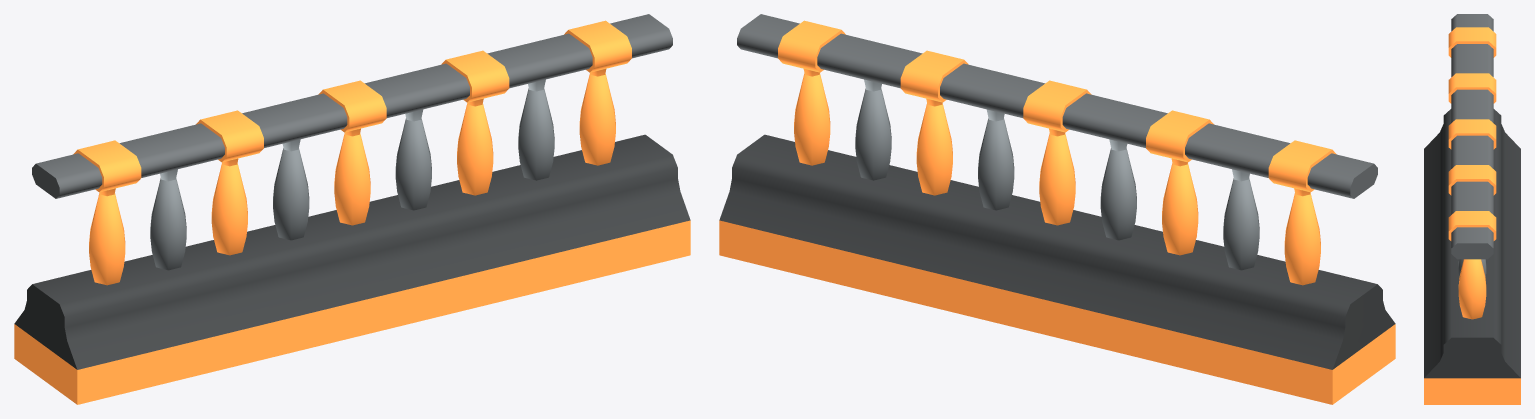
The model's file is fence_003.glb.
The picture shows the model from 3 angles, left to right: view 1: azimuth 30°, elevation 25°; view 2: azimuth 150°, elevation 25°; view 3: azimuth 270°, elevation 25°; orthographic projection. The views are drawn at different scales.
Visible parts, largest first — view 1: fence_003; view 2: fence_003; view 3: fence_003.
Part boxes in pixels (box(x1,y1,x2,y2)): fence_003: box(14, 14, 690, 404); fence_003: box(719, 14, 1395, 404); fence_003: box(1424, 14, 1520, 404).
Bounding box in the file's own units: 4 × 1.33 × 0.7133.
2 materials, 2 textured.
